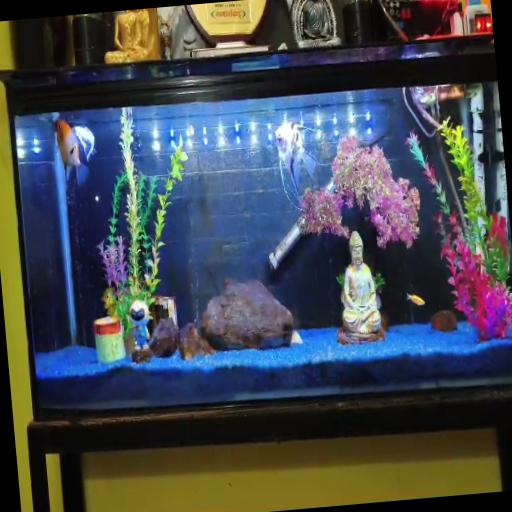Fish: (275, 122, 318, 197), (56, 119, 94, 185), (73, 127, 95, 161), (407, 294, 425, 306)
